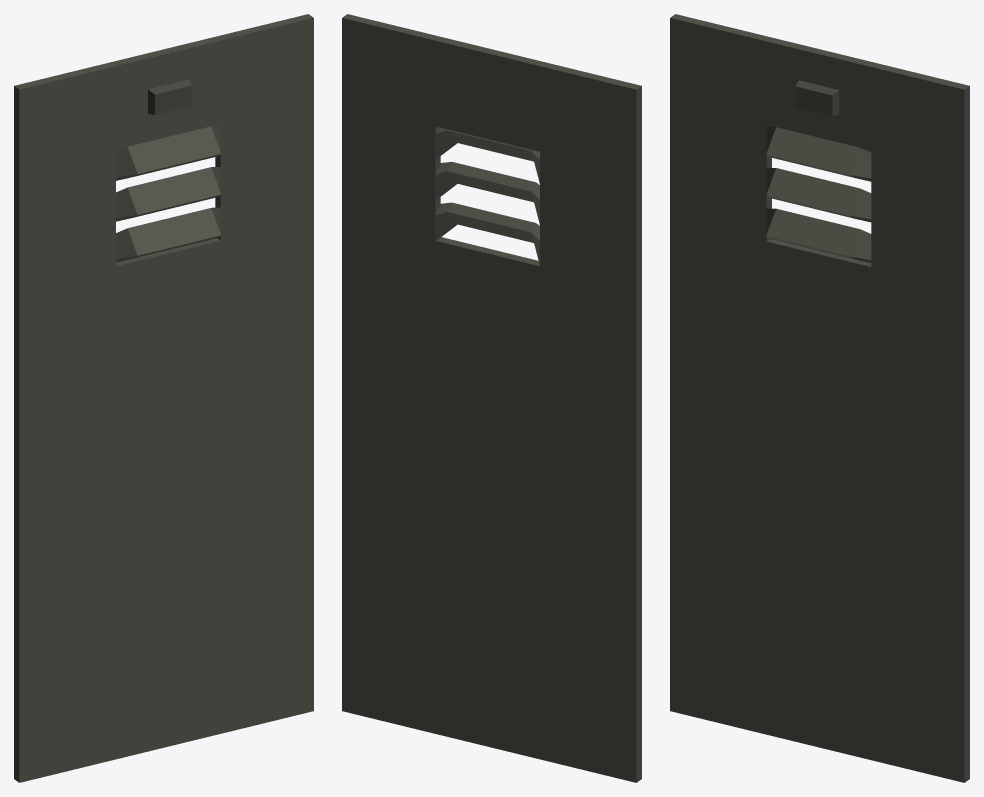
Rendered from SM_Prop_Lockers_Door_03.fbx.
3 renders of one model, left to right at view 1: azimuth 30°, elevation 25°; view 2: azimuth 150°, elevation 25°; view 3: azimuth 330°, elevation 25°, orthographic.
Visible parts, largest first — view 1: SM_Prop_Lockers_Door_03; view 2: SM_Prop_Lockers_Door_03; view 3: SM_Prop_Lockers_Door_03.
Part boxes in pixels (x1=…): SM_Prop_Lockers_Door_03: x1=14, y1=14, x2=313, y2=782; SM_Prop_Lockers_Door_03: x1=342, y1=14, x2=641, y2=782; SM_Prop_Lockers_Door_03: x1=670, y1=14, x2=969, y2=782.
Size of the model in its own units: 60.28 by 136 by 5.83.
